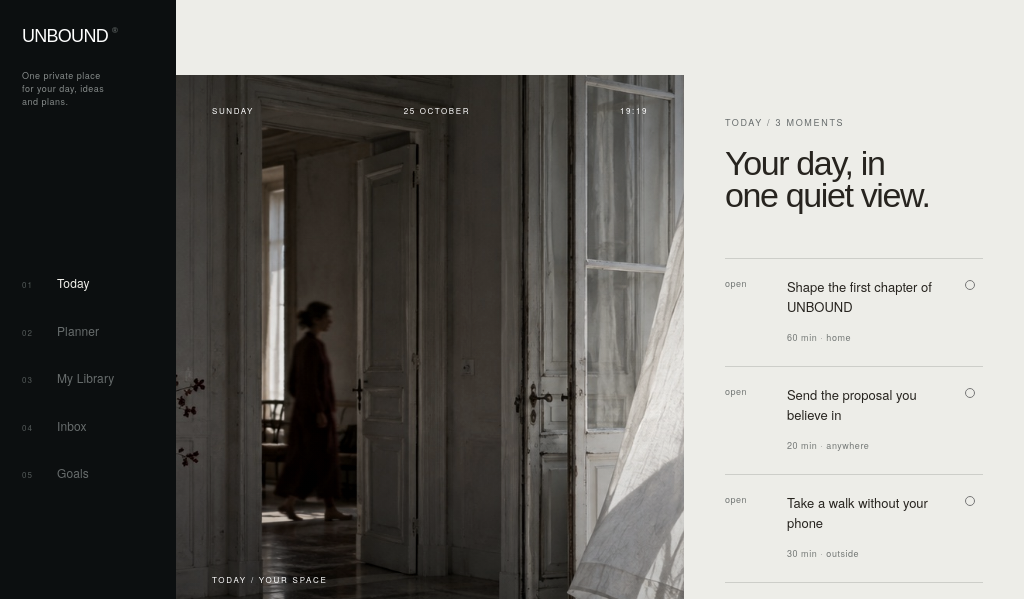
Test: UNBOUND Life OS interactions › confirms when a Library item is added to Today
The image size is (1024, 599).
Click the link "03 My Library": coordinates (68, 378) x1=22 y1=369 x2=114 y2=386
(page scrolled)
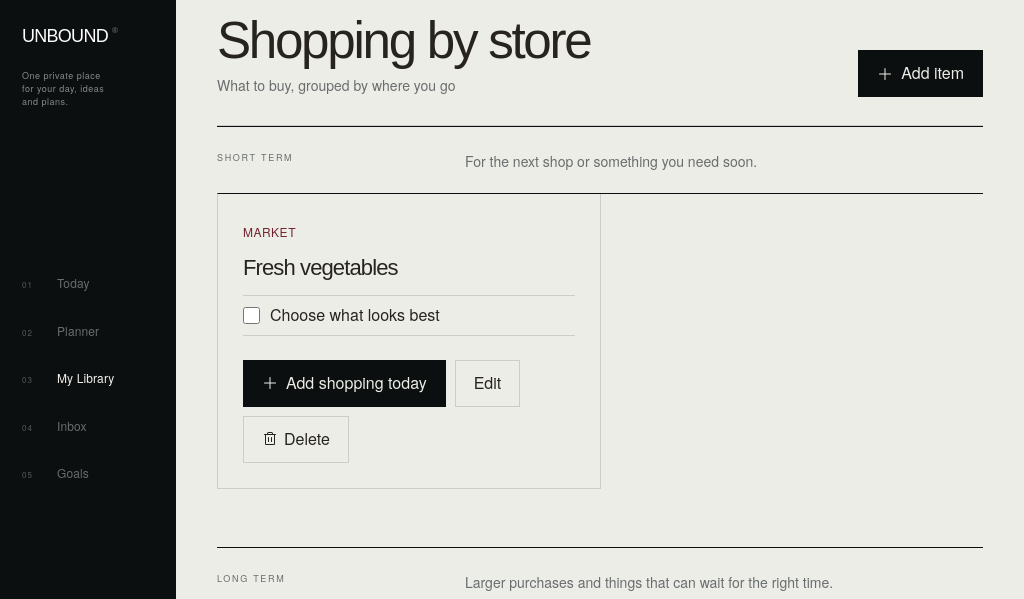
Click the button "Add shopping today": coordinates (344, 383) x1=243 y1=360 x2=446 y2=407
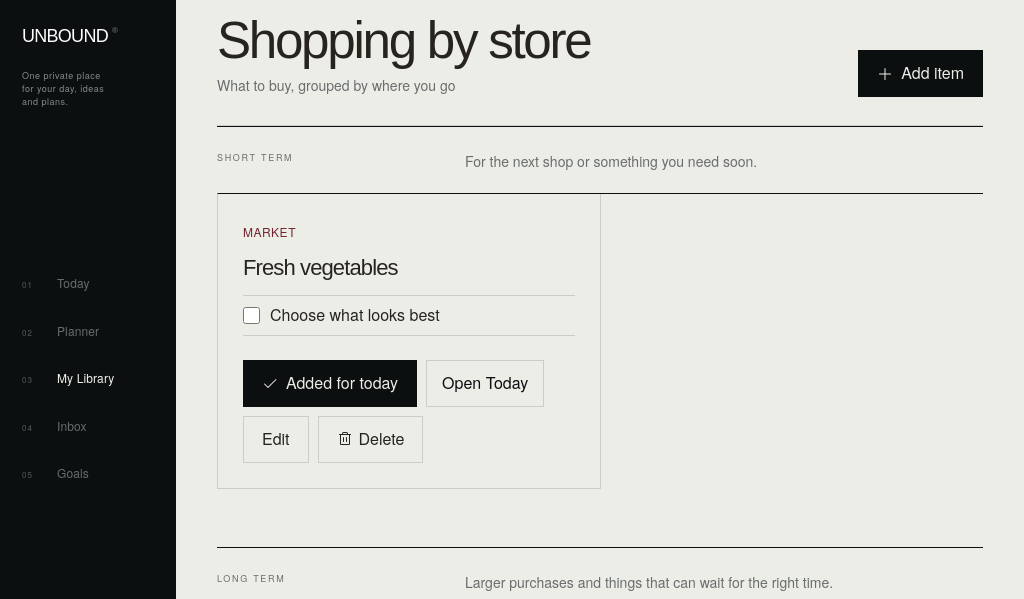
Expected: the button "Added for today" is shown, x1=243 y1=360 x2=417 y2=407
Expected: the link "Open Today" is shown, x1=426 y1=360 x2=544 y2=407
